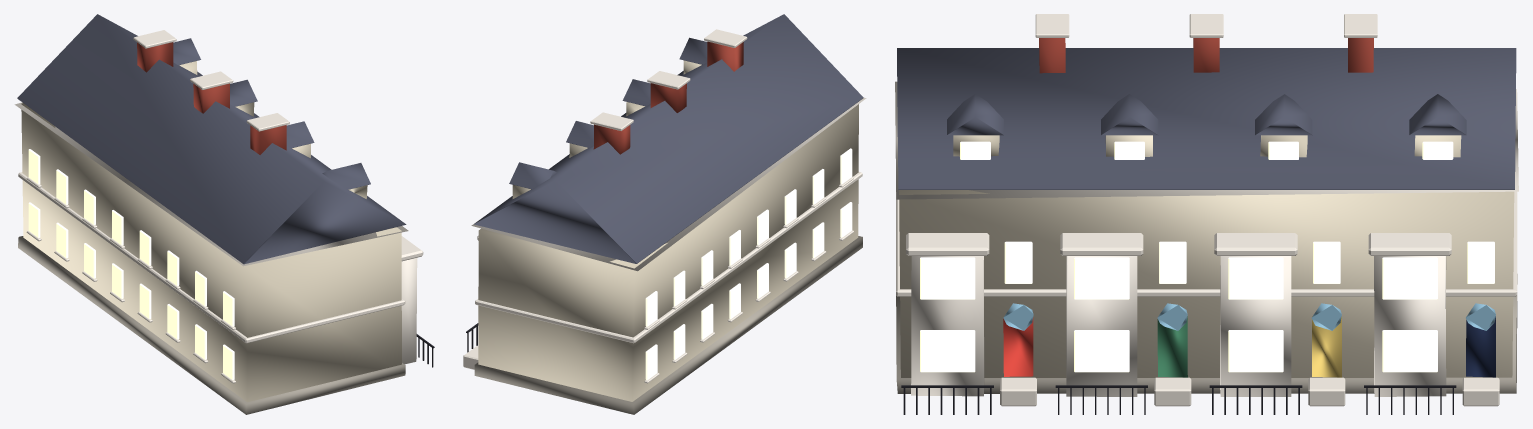
File: townhouse_row_b.glb
3 renders of one model, left to right at view 1: azimuth 30°, elevation 25°; view 2: azimuth 150°, elevation 25°; view 3: azimuth 270°, elevation 25°, orthographic. The views are drawn at different scales.
Visible parts, largest first — view 1: townhouse_row_b; view 2: townhouse_row_b; view 3: townhouse_row_b.
Boxes of the visible parts, x1,y1,x2,y2 form: townhouse_row_b: (14,14,434,414); townhouse_row_b: (463,14,866,414); townhouse_row_b: (895,14,1518,414).
Bounding box in the file's own units: 9.88 × 11.37 × 20.24.
1 material, 1 textured.
